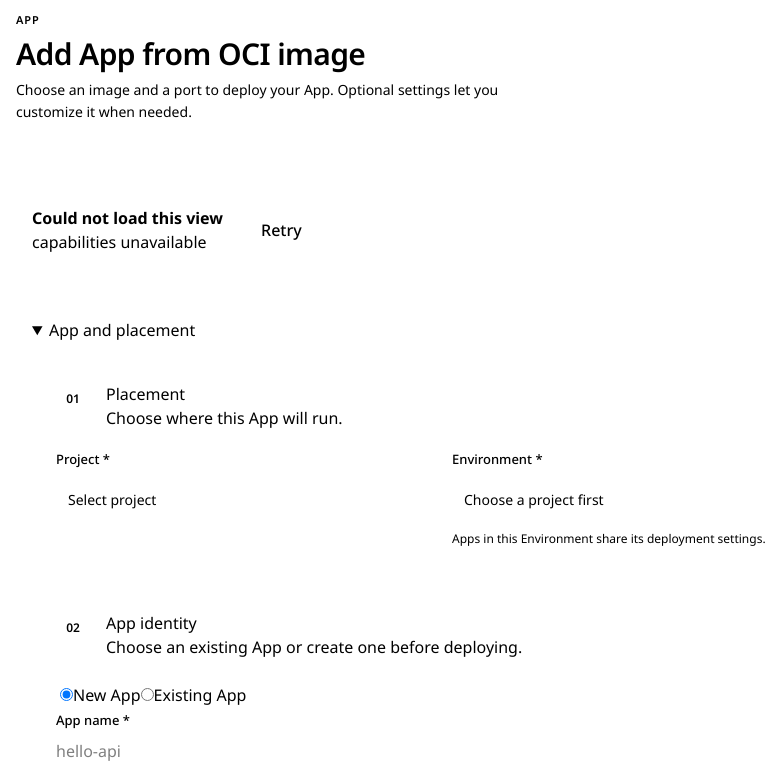
Test: new deployment runtime controls › surfaces a capability lookup failure and retries it
Expected: the text "capabilities unavailable" is shown, [32, 230, 223, 254]
What coordinates should you click on to do the following:
click the button "Retry"
I would click on:
 (278, 230)
Its box is [239, 210, 318, 250].
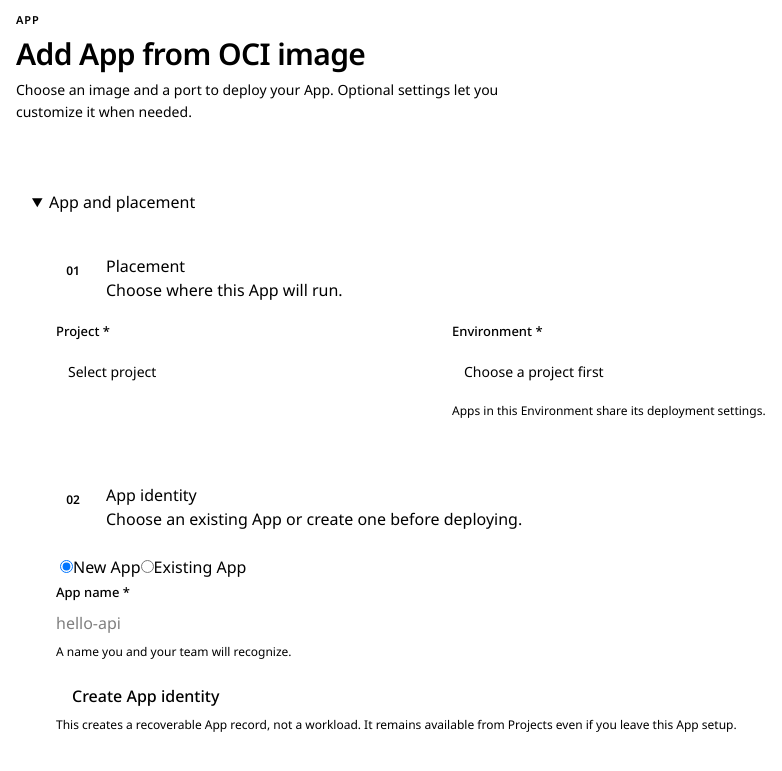
Expected: the text "capabilities unavailable" is gone
